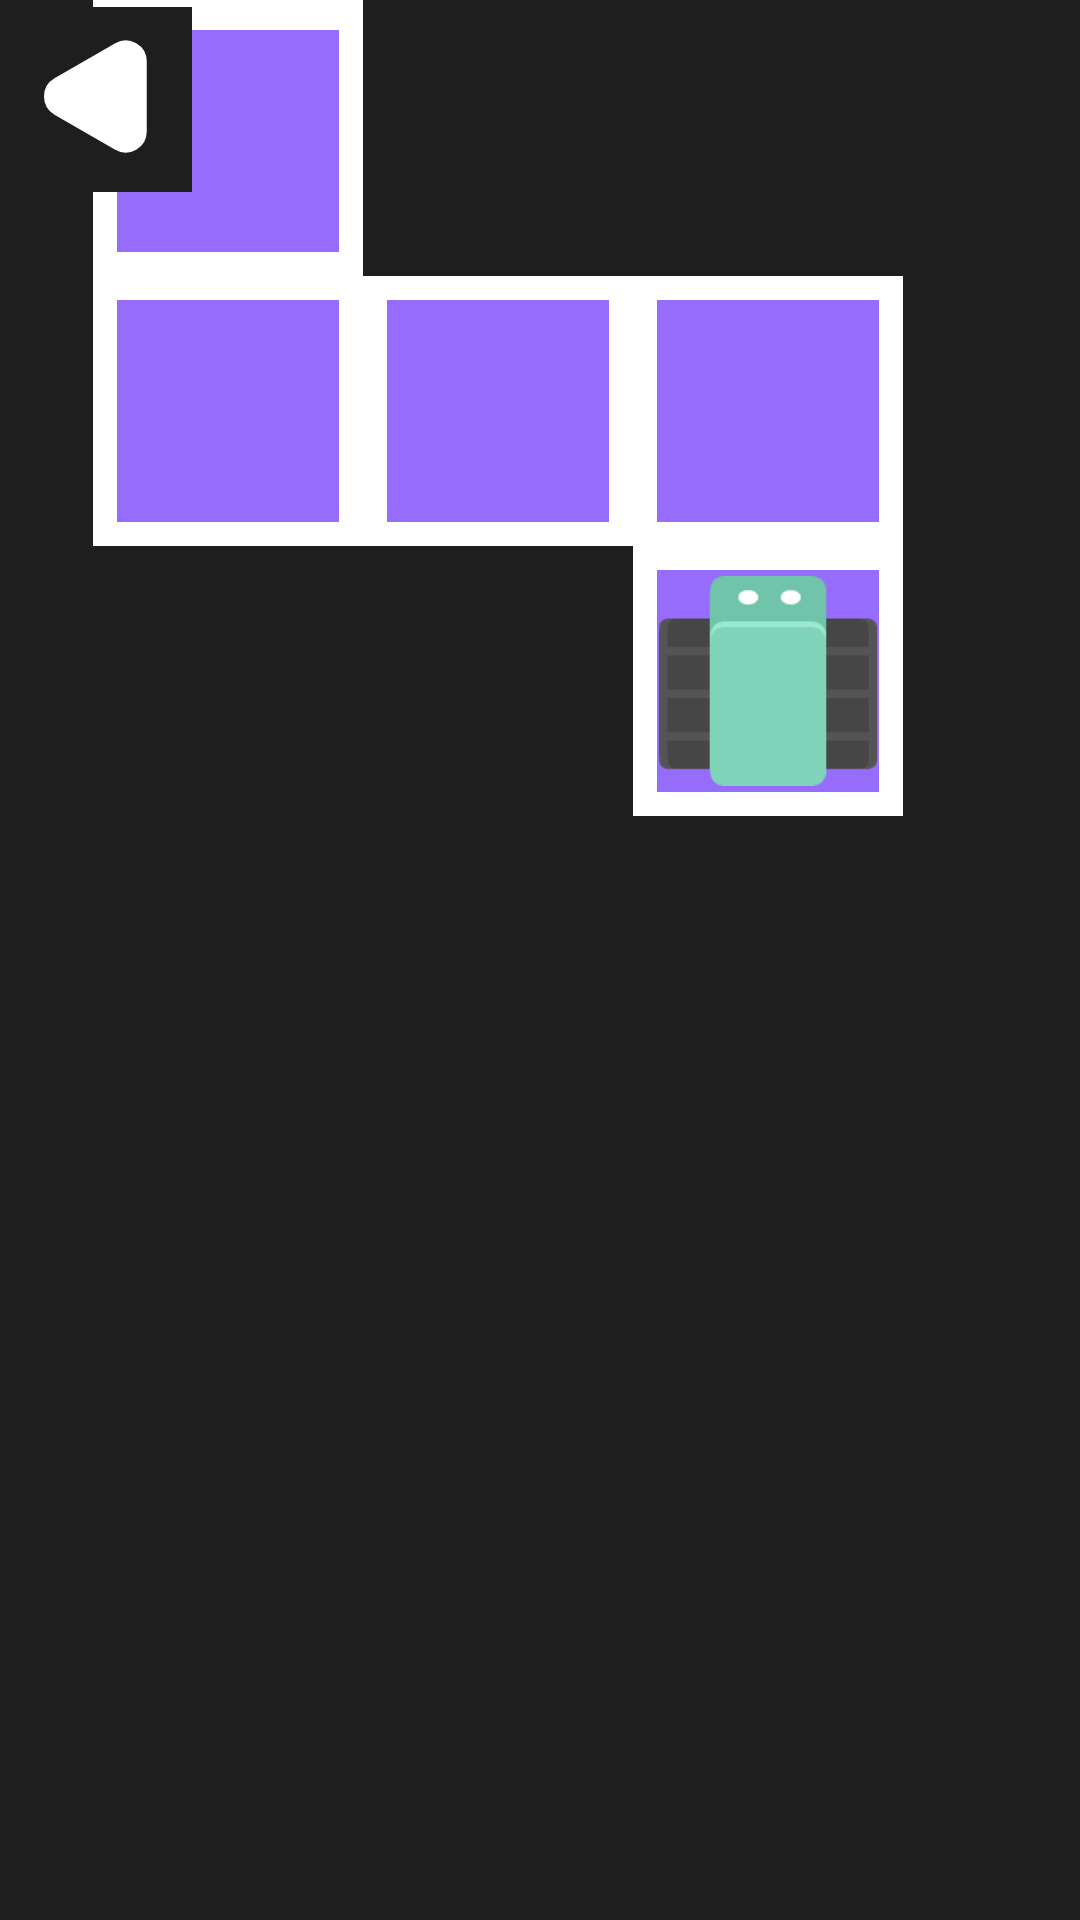

Named icons in this screenshot (1080*1920) and their bounding boxes, (x1, y1, x2, y2):
Boton para ir a la pantalla anterior: (0, 0, 192, 192)
